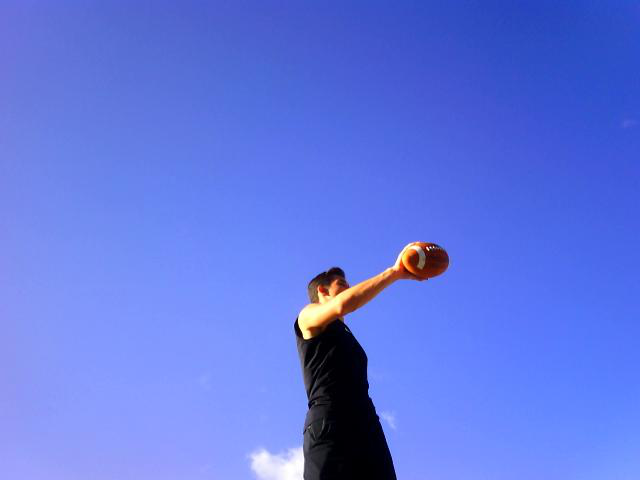football: (402, 242, 451, 279)
